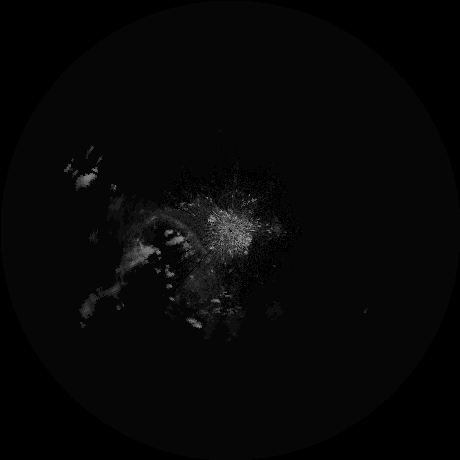frontgust: (160, 212, 209, 255)
